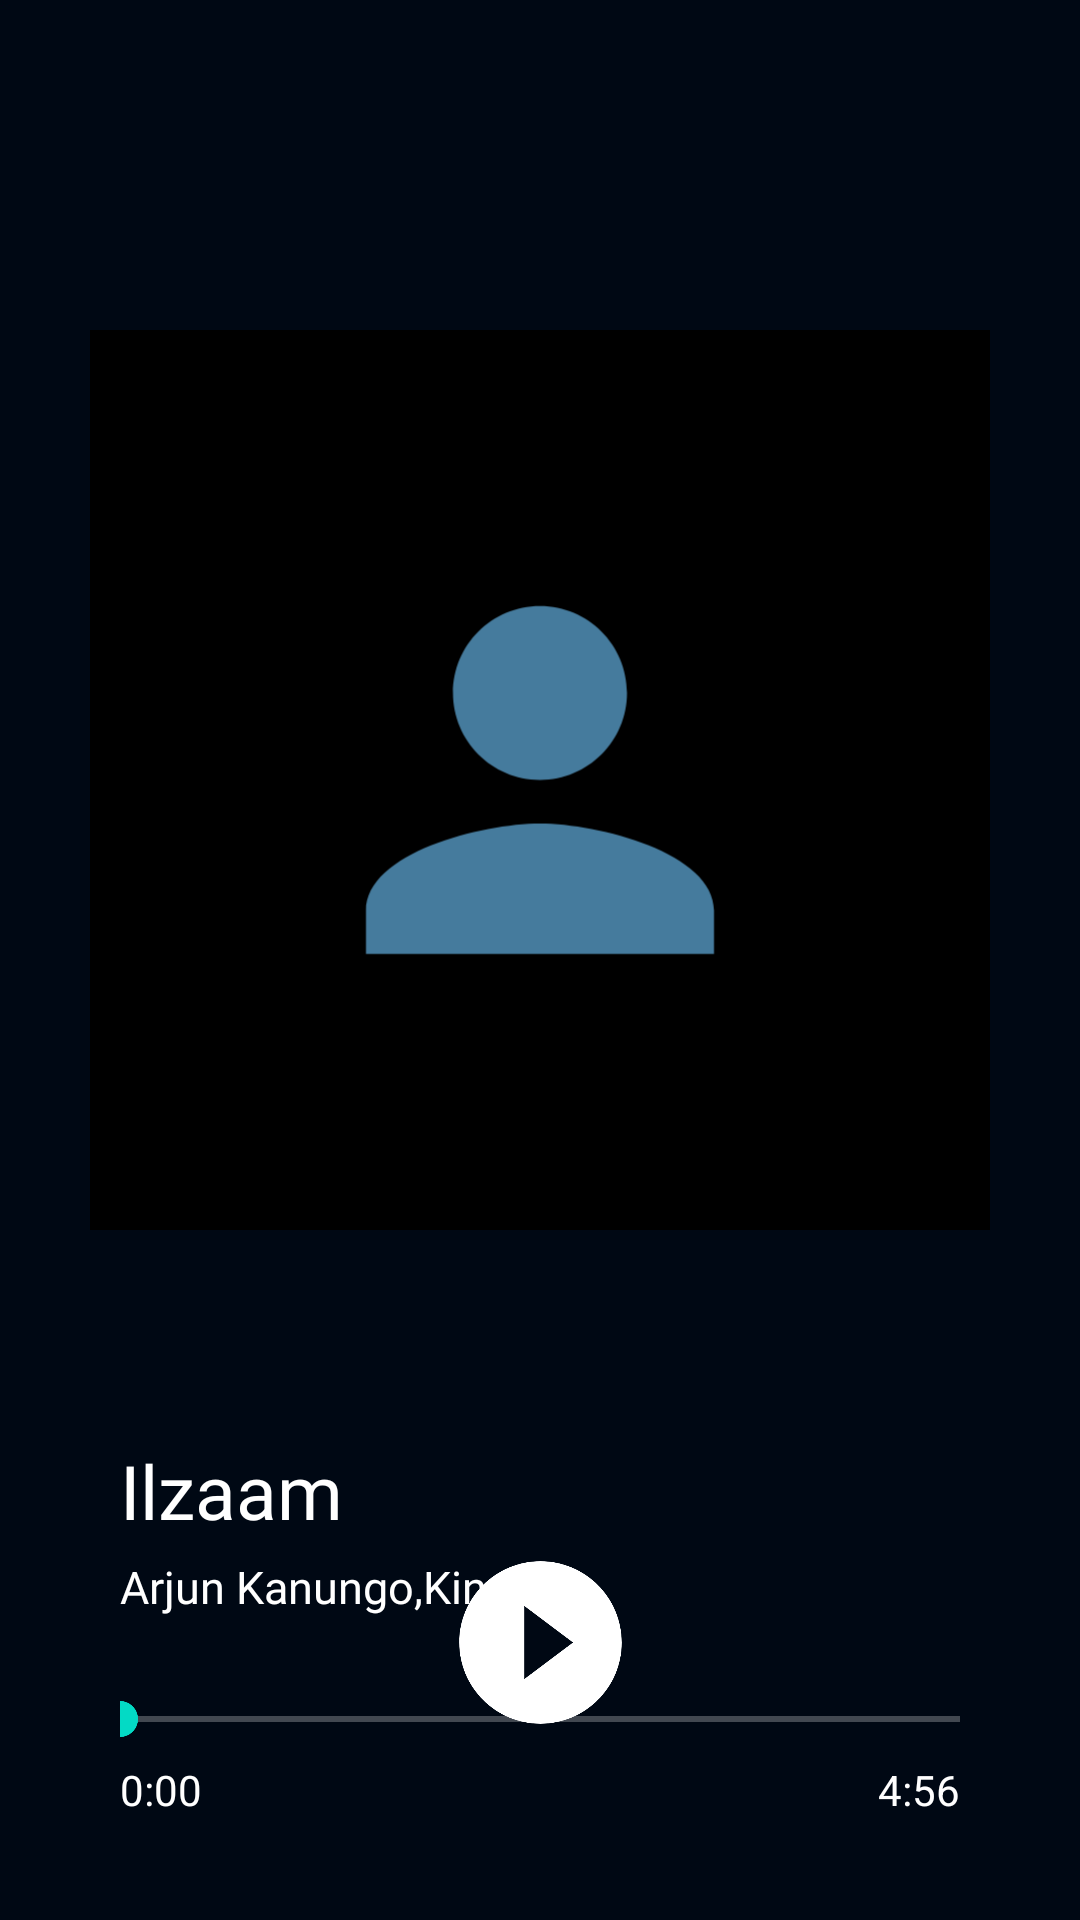

Icon bounding boxes for this 1080 × 1920 phone screenshot, format Rect(x1, y1, x2, y2):
play circle: Rect(443, 1561, 638, 1724)
